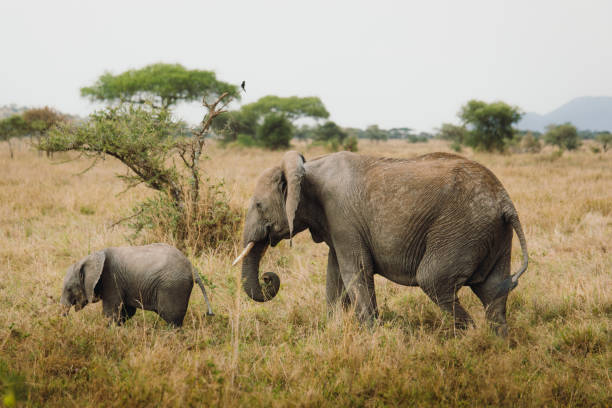africanelephant: (224, 155, 324, 302)
